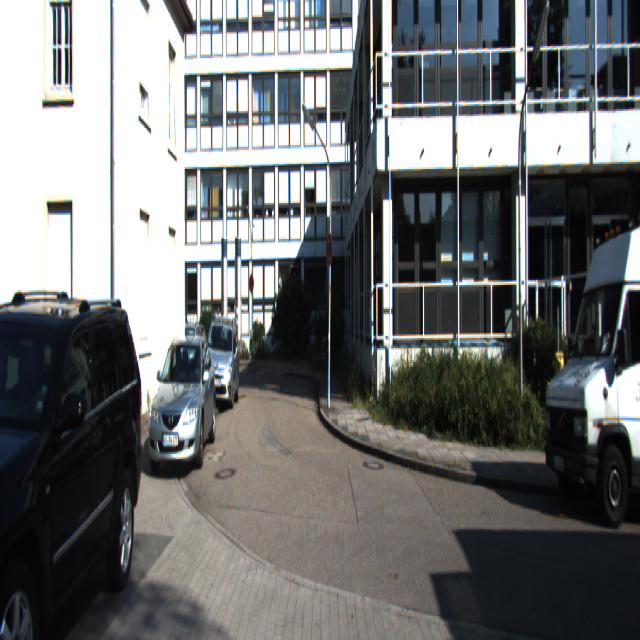Car: (0, 267, 148, 639), (537, 219, 639, 530), (144, 332, 218, 482), (200, 314, 242, 410)
